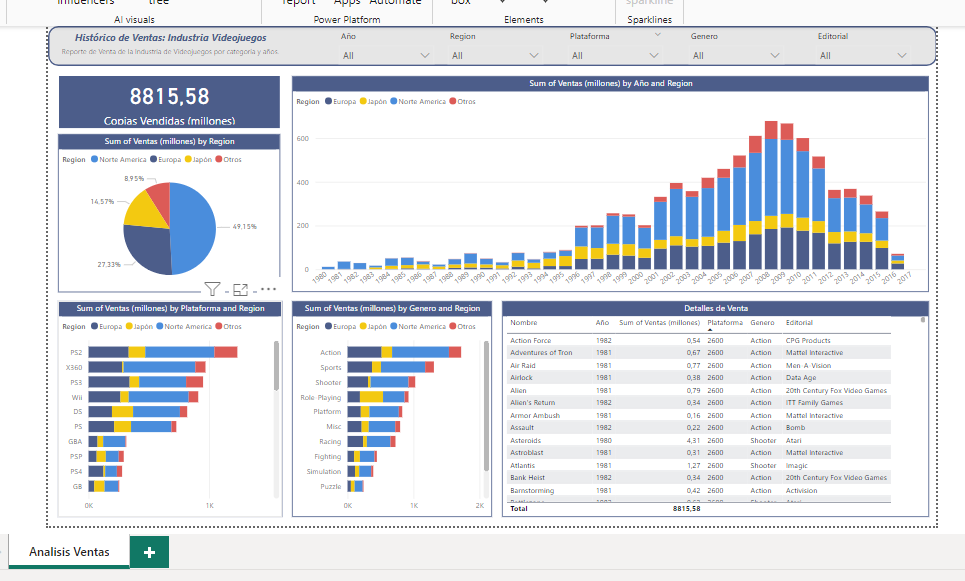

The page's visual inventory and layout, read from the dashboard file:
{"tool":"powerbi","page":{"name":"Analisis Ventas","canvas":[1280,720],"ordinal":0},"visuals":[{"type":"shape","box":[0,0,1280.2,57.6],"z":0},{"type":"tableEx","title":"Detalles de Venta","fields":{"Values":["Ventas Videojuegos.Nombre","Ventas Videojuegos.Año","Sum(Ventas Videojuegos.Ventas (millones))","Ventas Videojuegos.Plataforma","Ventas Videojuegos.Genero","Ventas Videojuegos.Editorial"]},"box":[653.8,396,614.9,311],"z":1000},{"type":"columnChart","fields":{"Category":["Ventas Videojuegos.Año"],"Y":["Sum(Ventas Videojuegos.Ventas (millones))"],"Series":["Ventas Videojuegos.Region"]},"box":[351.4,72,917.3,311],"z":2000},{"type":"pieChart","fields":{"Category":["Ventas Videojuegos.Region"],"Y":["Sum(Ventas Videojuegos.Ventas (millones))"]},"box":[14.4,155.5,319.7,227.5],"z":3000},{"type":"barChart","fields":{"Y":["Sum(Ventas Videojuegos.Ventas (millones))"],"Series":["Ventas Videojuegos.Region"],"Category":["Ventas Videojuegos.Plataforma"]},"box":[14.4,396,322.6,311],"z":4000},{"type":"barChart","fields":{"Y":["Sum(Ventas Videojuegos.Ventas (millones))"],"Series":["Ventas Videojuegos.Region"],"Category":["Ventas Videojuegos.Genero"]},"box":[351.4,396,288,311],"z":5000},{"type":"card","fields":{"Values":["Sum(Ventas Videojuegos.Ventas (millones))"]},"box":[15.8,72,318.2,74.9],"z":6000},{"type":"slicer","fields":{"Values":["Ventas Videojuegos.Año"]},"box":[334.1,0,157,97.9],"z":7000},{"type":"slicer","fields":{"Values":["Ventas Videojuegos.Region"]},"box":[470.9,0,157,97.9],"z":8000},{"type":"slicer","fields":{"Values":["Ventas Videojuegos.Plataforma"]},"box":[627.8,0,157,97.9],"z":9000},{"type":"slicer","fields":{"Values":["Ventas Videojuegos.Genero"]},"box":[773.3,0,157,97.9],"z":10000},{"type":"slicer","fields":{"Values":["Ventas Videojuegos.Editorial"]},"box":[930.2,1.4,152.6,56.2],"z":11000},{"type":"textbox","box":[1.4,1.4,349.9,47.5],"z":11001},{"type":"actionButton","box":[1170.7,5.8,109.4,44.6],"z":11002}]}

Visuals, with their boxes on the page's 1280x720 design canvas (x1, y1, x2, y2). These are canvas units, not pixel positions in the 965x581 screenshot, which may show the page scaled, cropped or inside an application window:
shape: <box>0,0,1280,58</box>
"Detalles de Venta" tableEx: <box>654,396,1269,707</box>
columnChart - Ventas Videojuegos.Año x Sum(Ventas Videojuegos.Ventas (millones)): <box>351,72,1269,383</box>
pieChart - Ventas Videojuegos.Region x Sum(Ventas Videojuegos.Ventas (millones)): <box>14,156,334,383</box>
barChart - Sum(Ventas Videojuegos.Ventas (millones)) x Ventas Videojuegos.Region: <box>14,396,337,707</box>
barChart - Sum(Ventas Videojuegos.Ventas (millones)) x Ventas Videojuegos.Region: <box>351,396,639,707</box>
card - Sum(Ventas Videojuegos.Ventas (millones)): <box>16,72,334,147</box>
slicer - Ventas Videojuegos.Año: <box>334,0,491,98</box>
slicer - Ventas Videojuegos.Region: <box>471,0,628,98</box>
slicer - Ventas Videojuegos.Plataforma: <box>628,0,785,98</box>
slicer - Ventas Videojuegos.Genero: <box>773,0,930,98</box>
slicer - Ventas Videojuegos.Editorial: <box>930,1,1083,58</box>
textbox: <box>1,1,351,49</box>
actionButton: <box>1171,6,1280,50</box>
